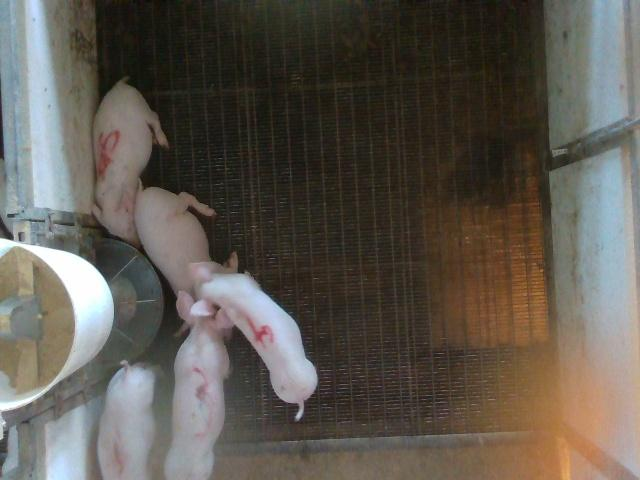pig-1: (99, 361, 155, 479)
pig-3: (165, 291, 231, 479)
pig-4: (190, 262, 318, 419)
pig-5: (92, 78, 169, 247)
